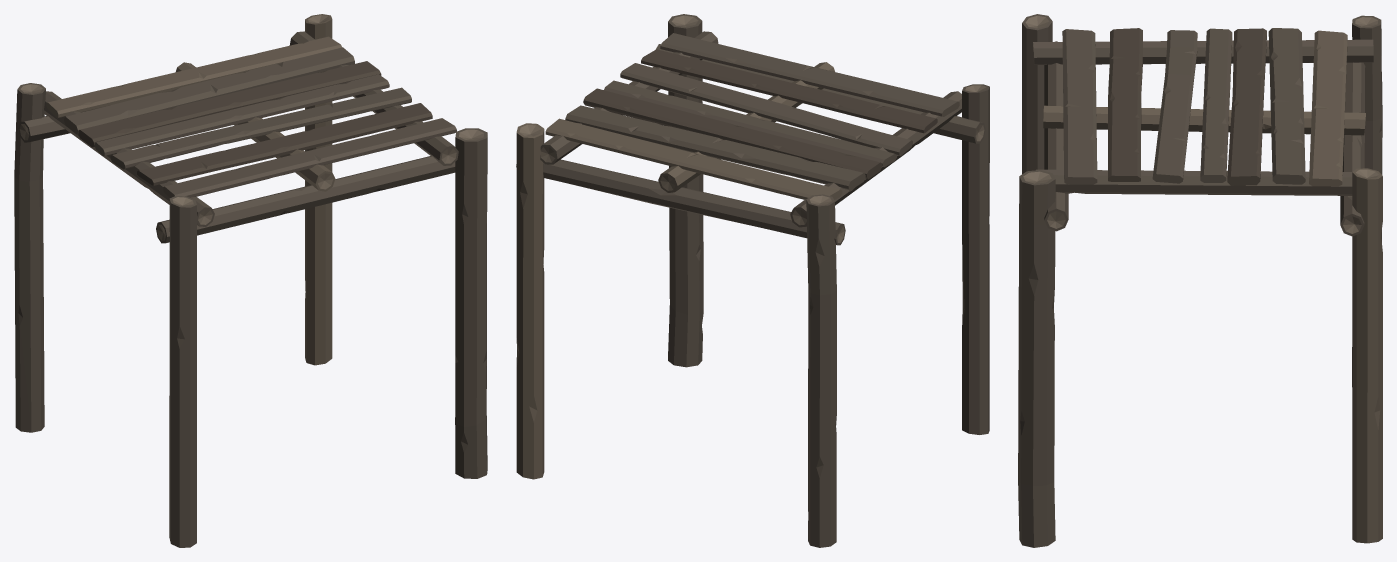
Rendered from Prop_Wood_Tent_01.fbx.
The picture shows the model from 3 angles, left to right: view 1: azimuth 30°, elevation 25°; view 2: azimuth 150°, elevation 25°; view 3: azimuth 270°, elevation 25°; orthographic projection. The views are drawn at different scales.
Visible parts, largest first — view 1: Prop_Wood_Tent_01_LOD0; view 2: Prop_Wood_Tent_01_LOD0; view 3: Prop_Wood_Tent_01_LOD0.
Part boxes in pixels (left/top/right/bottom): Prop_Wood_Tent_01_LOD0: left=14, top=14, right=487, bottom=547; Prop_Wood_Tent_01_LOD0: left=516, top=14, right=989, bottom=547; Prop_Wood_Tent_01_LOD0: left=1018, top=14, right=1382, bottom=547.
Size of what is drawn, in the model's own units: 210 by 215 by 193.
